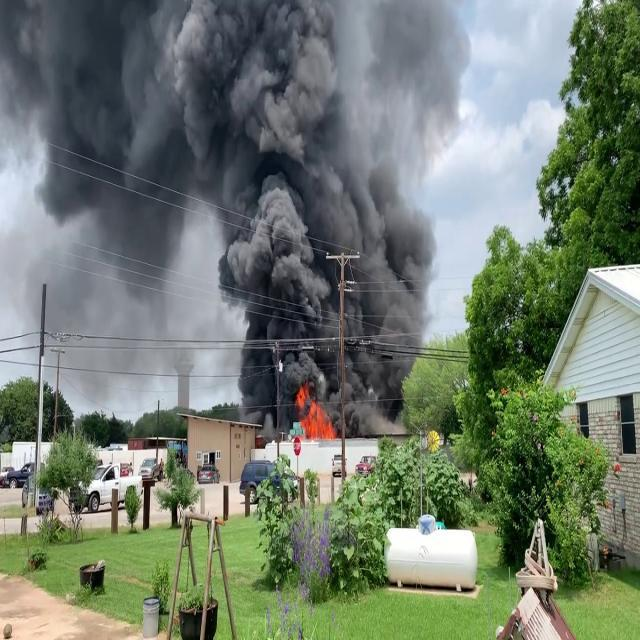Fire: (293, 384, 337, 437)
Smoke: (5, 2, 468, 422)
